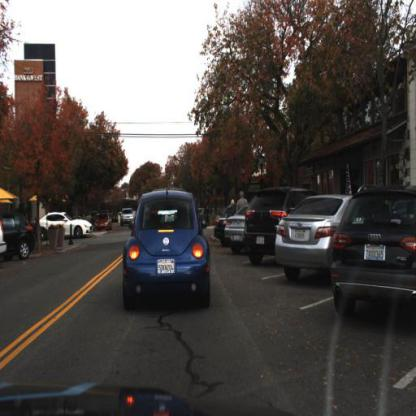car: (122, 188, 213, 315), (331, 184, 416, 319), (274, 194, 355, 284), (244, 188, 306, 266), (39, 211, 92, 240), (225, 202, 253, 255), (6, 214, 36, 261), (212, 203, 236, 243), (93, 211, 112, 235), (118, 208, 136, 229)
pedestrian: (237, 192, 251, 219)
